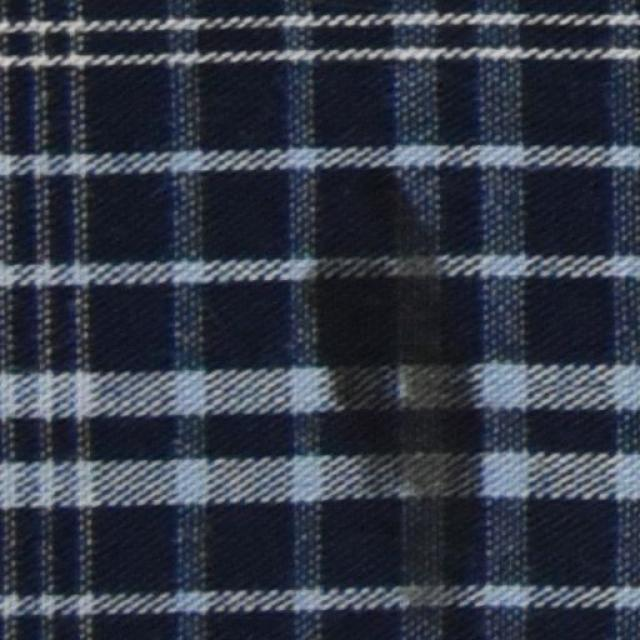Stain: (294, 147, 490, 635)
